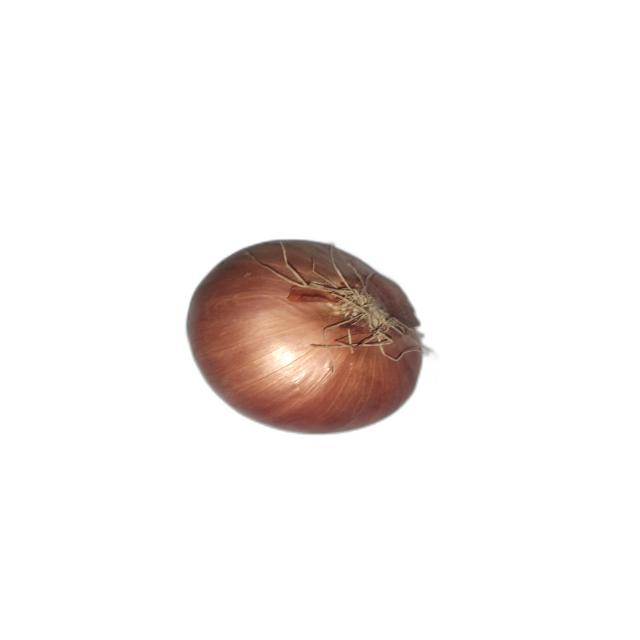onion: (184, 238, 425, 436)
